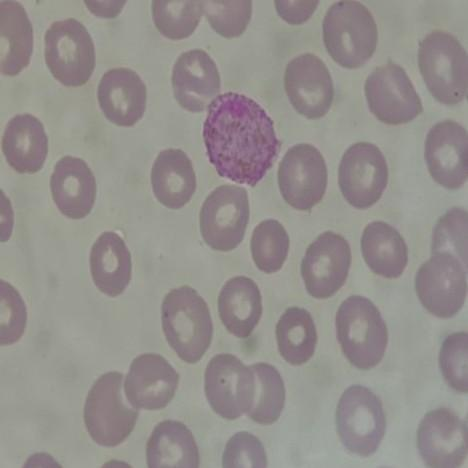Infected: (201, 89, 280, 189)
Uninfected: (161, 287, 215, 366), (334, 295, 390, 371), (82, 373, 138, 446), (416, 30, 466, 106), (324, 0, 377, 71), (364, 60, 421, 125), (336, 385, 388, 455), (45, 18, 98, 86), (300, 230, 350, 301), (203, 353, 254, 421), (200, 182, 250, 251), (415, 253, 468, 316), (415, 405, 468, 468), (339, 140, 387, 209), (124, 353, 180, 412), (276, 143, 325, 209), (174, 48, 223, 113), (285, 54, 333, 119), (50, 155, 97, 221), (216, 277, 264, 341), (95, 68, 146, 128), (425, 120, 468, 191), (361, 218, 410, 280), (89, 228, 133, 296), (236, 363, 282, 426), (3, 113, 48, 177), (151, 149, 195, 209), (275, 303, 317, 364), (249, 219, 290, 275)
